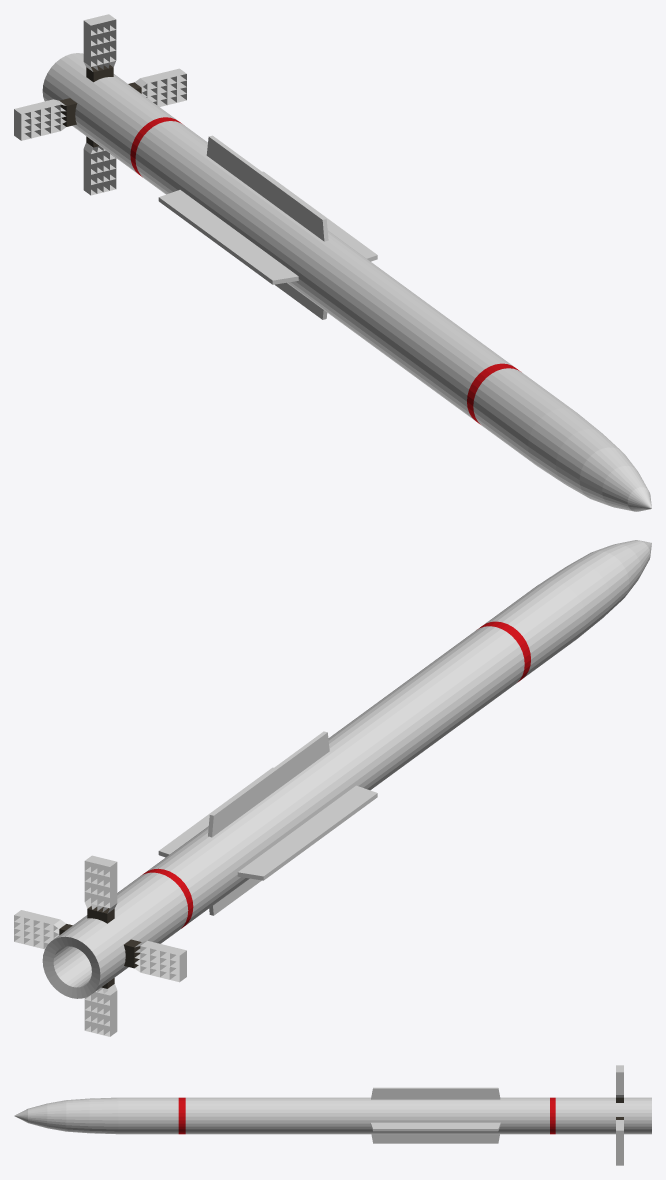
Rendered from missile.glb.
The picture shows the model from 3 angles, top to bottom: view 1: azimuth 30°, elevation 25°; view 2: azimuth 150°, elevation 25°; view 3: azimuth 270°, elevation 25°; orthographic projection. The views are drawn at different scales.
Parts seen in each view (by area): view 1: Cylinder; view 2: Cylinder; view 3: Cylinder.
Boxes of the visible parts, x1,y1,x2,y2 form: Cylinder: (14, 14, 651, 511); Cylinder: (14, 540, 651, 1036); Cylinder: (14, 1065, 651, 1165).
Size of the model in its own units: 1.22 by 1.19 by 7.37.
